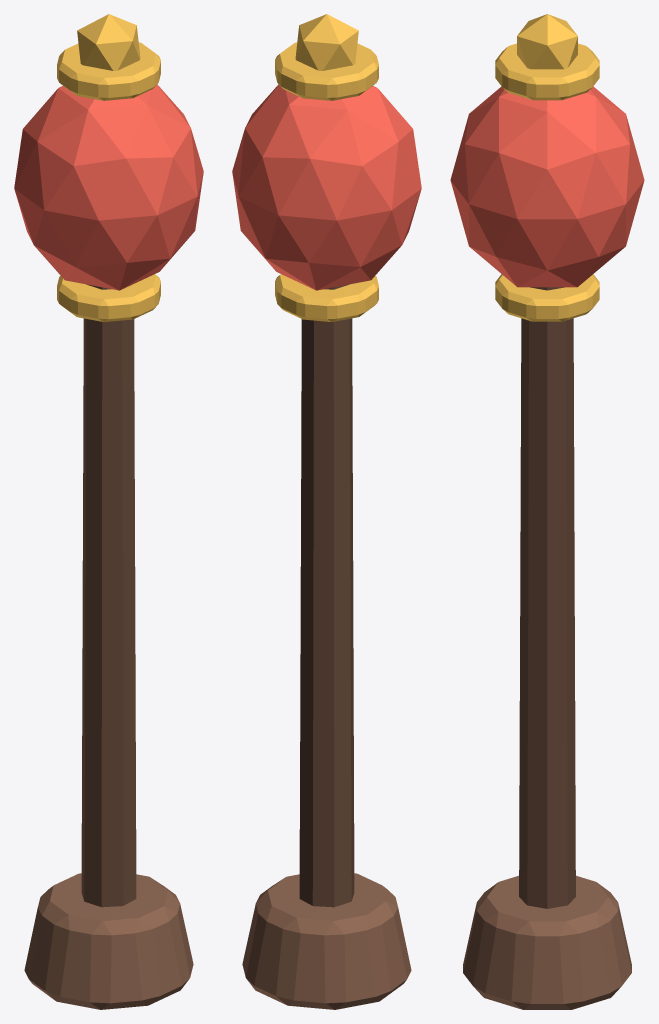
The model's file is cot-den.glb.
3 renders of one model, left to right at view 1: azimuth 30°, elevation 25°; view 2: azimuth 150°, elevation 25°; view 3: azimuth 270°, elevation 25°, orthographic.
Visible parts, largest first — view 1: cot-den-1, cot-den-2, cot-den-0, cot-den-4, cot-den-3, cot-den-5; view 2: cot-den-1, cot-den-2, cot-den-0, cot-den-4, cot-den-3, cot-den-5; view 3: cot-den-1, cot-den-2, cot-den-0, cot-den-4, cot-den-3, cot-den-5.
Part boxes in pixels (<box>): cot-den-1: <box>81,284,136,907</box>; cot-den-2: <box>14,84,203,290</box>; cot-den-0: <box>24,873,193,1009</box>; cot-den-4: <box>57,42,160,100</box>; cot-den-3: <box>57,274,160,321</box>; cot-den-5: <box>77,14,140,70</box>; cot-den-1: <box>299,284,354,907</box>; cot-den-2: <box>232,84,421,290</box>; cot-den-0: <box>242,873,411,1009</box>; cot-den-4: <box>275,42,378,100</box>; cot-den-3: <box>275,274,378,321</box>; cot-den-5: <box>295,14,358,70</box>; cot-den-1: <box>519,287,575,908</box>; cot-den-2: <box>450,86,644,287</box>; cot-den-0: <box>463,875,631,1009</box>; cot-den-4: <box>495,43,599,100</box>; cot-den-3: <box>495,274,599,321</box>; cot-den-5: <box>517,14,577,69</box>.
Bounding box in the file's own units: 0.5136 × 2.96 × 0.54.
